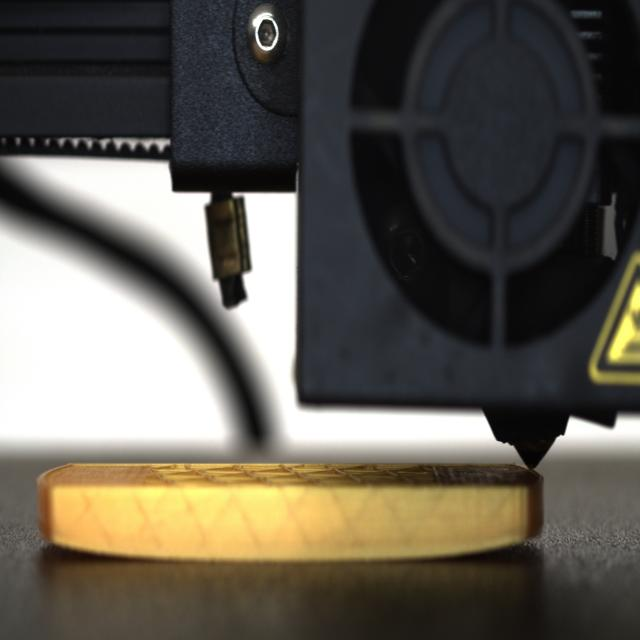Warping: (454, 528, 536, 563)
